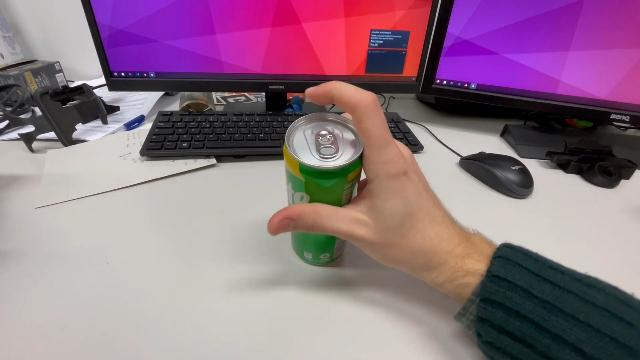Sprite: (279, 109, 367, 270)
